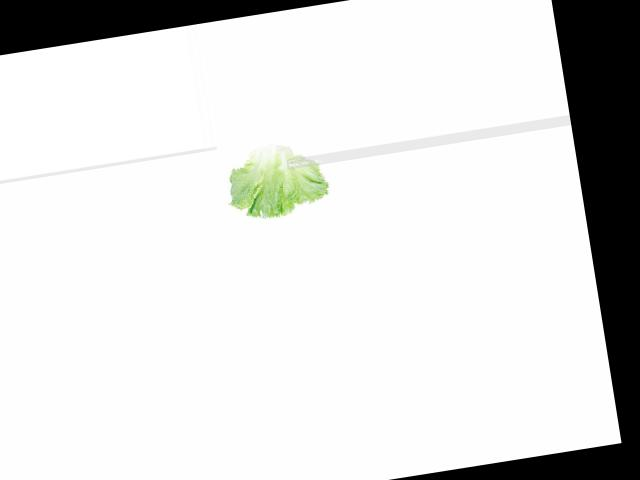lettuce: (222, 136, 328, 222)
